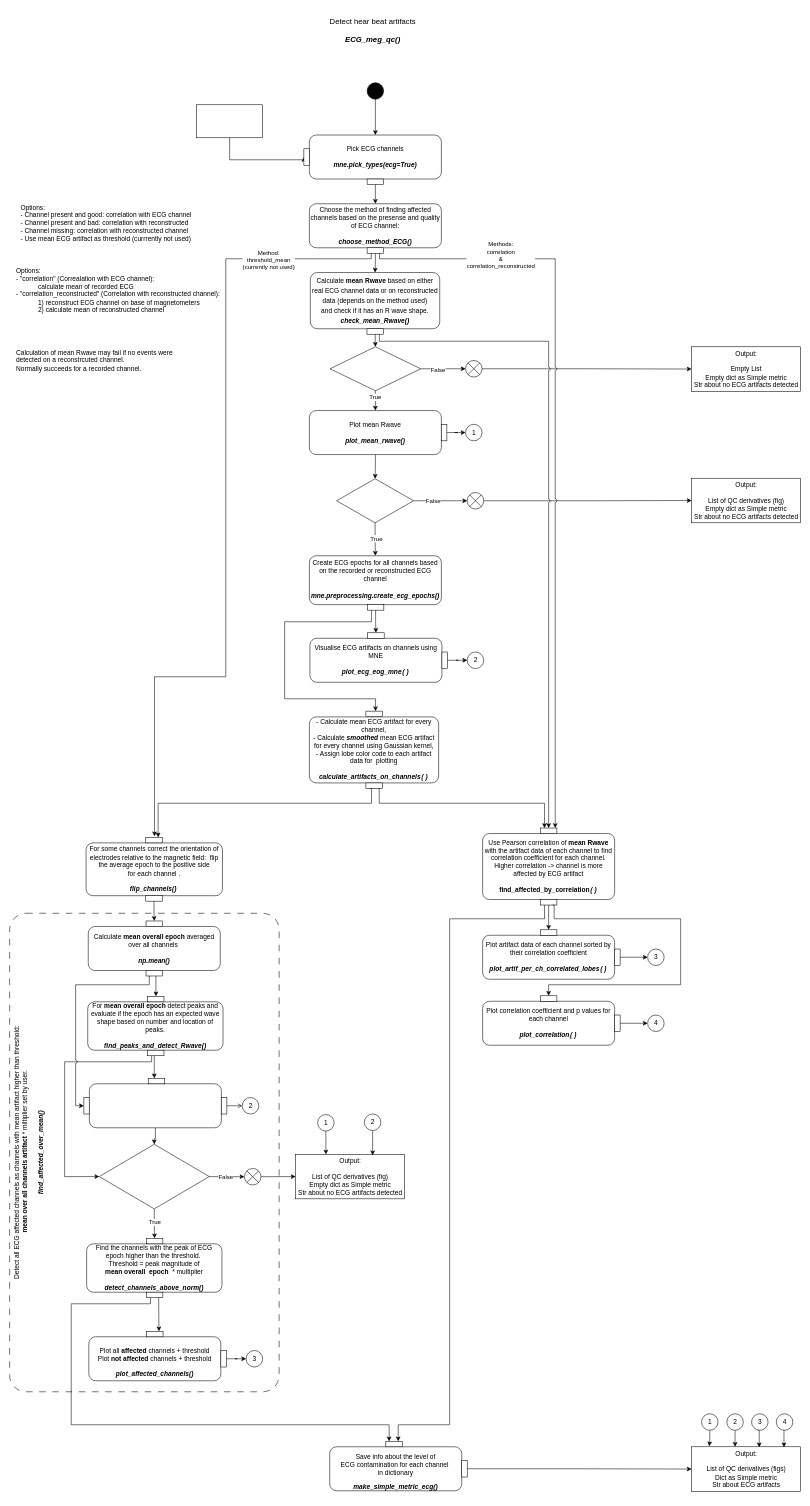
Some shapes in this 810 by 1506 pixel diagram are drawn without their labels. The shapes that lost their labels are listed below. From the top down, each one's centre as x and y in pixels, then its label:
At point (229, 121): "Input: Raw data, Config parameters".
At point (375, 368): "Mean R wave calculated?".
At point (375, 500): "Mean R wave is good?".
At point (155, 1105): "Plot mean overall epoch and highlight detected peaks plot_epoch_and_peak()".
At point (154, 1176): "Mean overall epoch has expected shape (prominent peak at specific time point)?".
